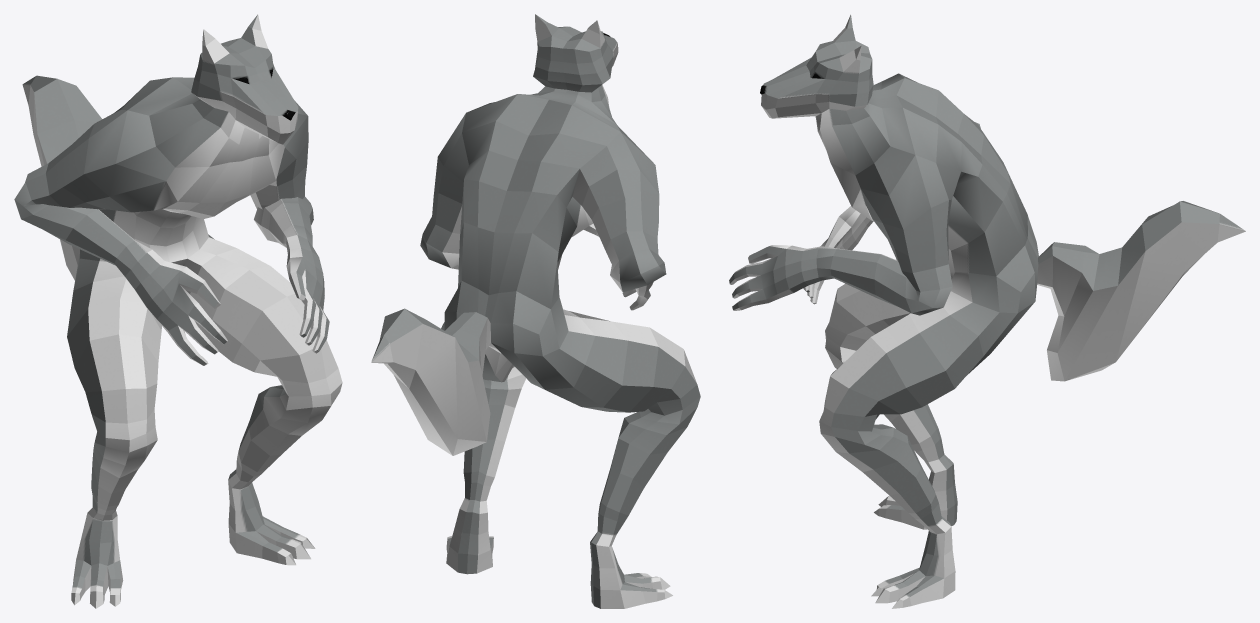
File: WolfIdle_(15).obj
The picture shows the model from 3 angles, left to right: view 1: azimuth 30°, elevation 25°; view 2: azimuth 150°, elevation 25°; view 3: azimuth 270°, elevation 25°; orthographic projection. The views are drawn at different scales.
Visible parts, largest first — view 1: Box001; view 2: Box001; view 3: Box001.
Part boxes in pixels (x1,y1,x2,y2): Box001: (14,14,342,608); Box001: (371,14,700,608); Box001: (729,14,1245,608).
Bounding box in the file's own units: 65.69 × 132 × 115.
